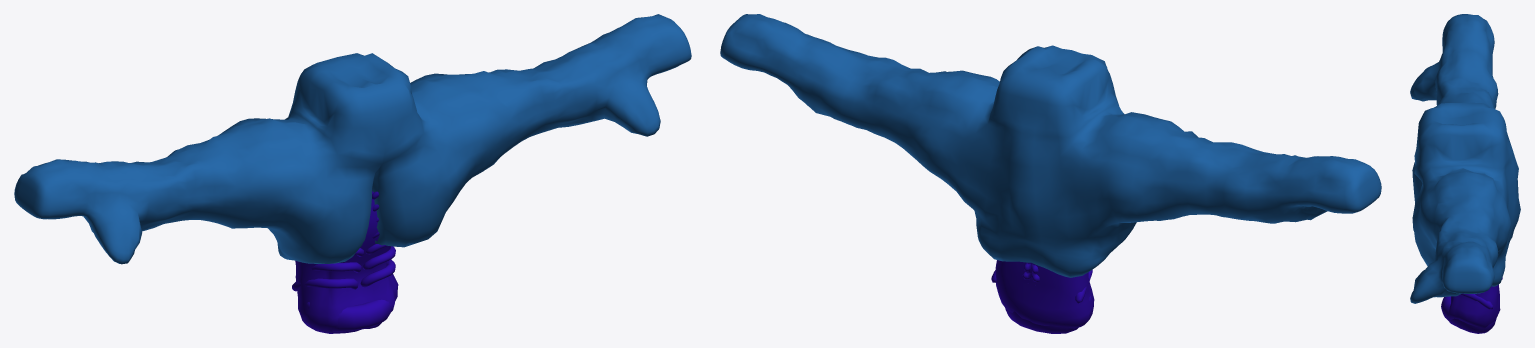
File: nightmare_01.obj
3 renders of one model, left to right at view 1: azimuth 30°, elevation 25°; view 2: azimuth 150°, elevation 25°; view 3: azimuth 270°, elevation 25°, orthographic. The views are drawn at different scales.
Visible parts, largest first — view 1: Cube.000; view 2: Cube.000; view 3: Cube.000.
Boxes of the visible parts, bbox=[...] form: Cube.000: bbox=[14, 14, 691, 333]; Cube.000: bbox=[720, 14, 1381, 333]; Cube.000: bbox=[1410, 14, 1520, 333].
Bounding box in the file's own units: 234 × 89.76 × 42.93.
